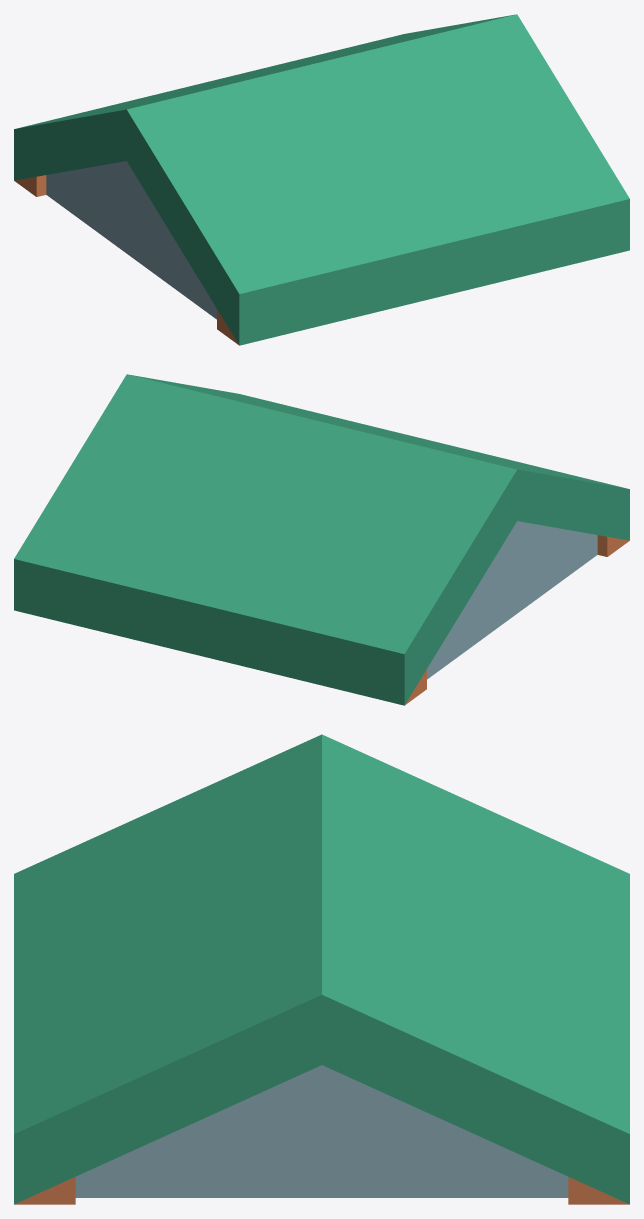
Rendered from roofGableTop.obj.
3 views of the same model, one above another, from view 1: azimuth 30°, elevation 25°; view 2: azimuth 150°, elevation 25°; view 3: azimuth 270°, elevation 25° (orthographic). The views are drawn at different scales.
Parts seen in each view (by area): view 1: roofGableTop; view 2: roofGableTop; view 3: roofGableTop.
Part boxes in pixels (box(x1,y1,x2,y2)): roofGableTop: box(14, 14, 629, 345); roofGableTop: box(14, 374, 629, 705); roofGableTop: box(14, 734, 629, 1204).
Size of the model in its own units: 1 by 0.376 by 1.
